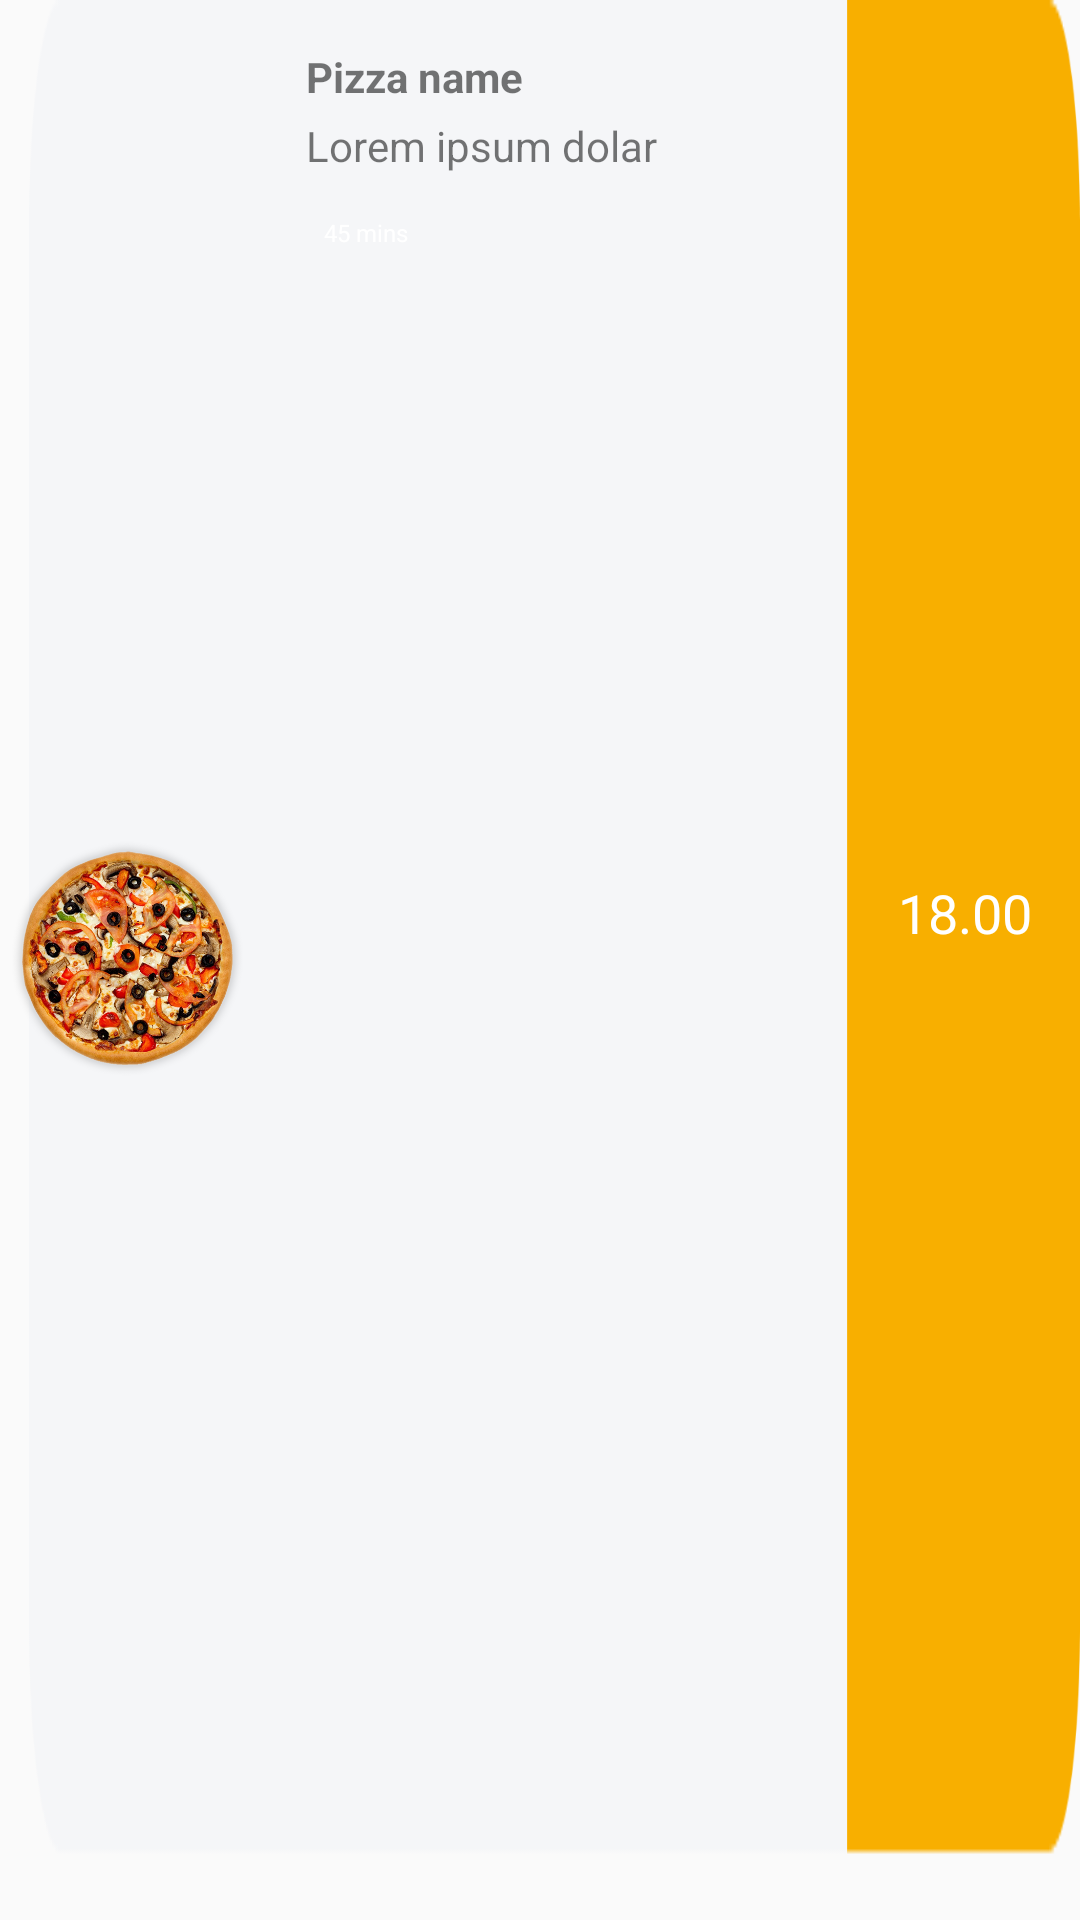

Point at icon controls on the screen. Image size 1080px x 1920px, points as (x,y).
pizza: (128,958)
